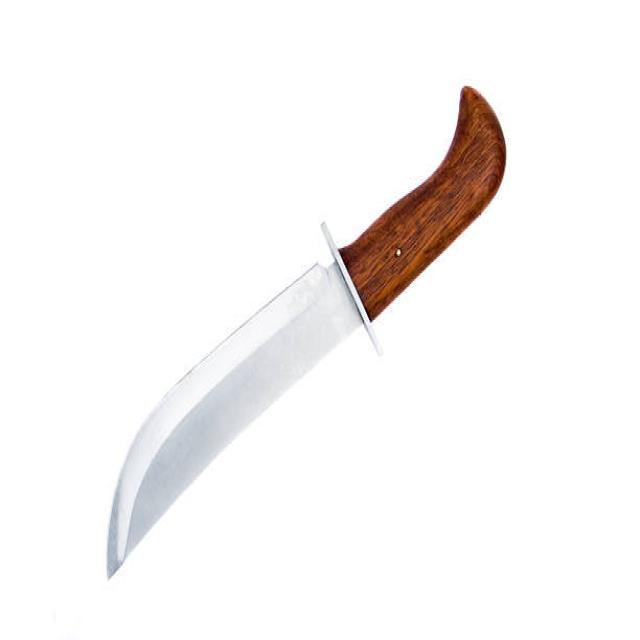knife: (105, 83, 510, 584)
